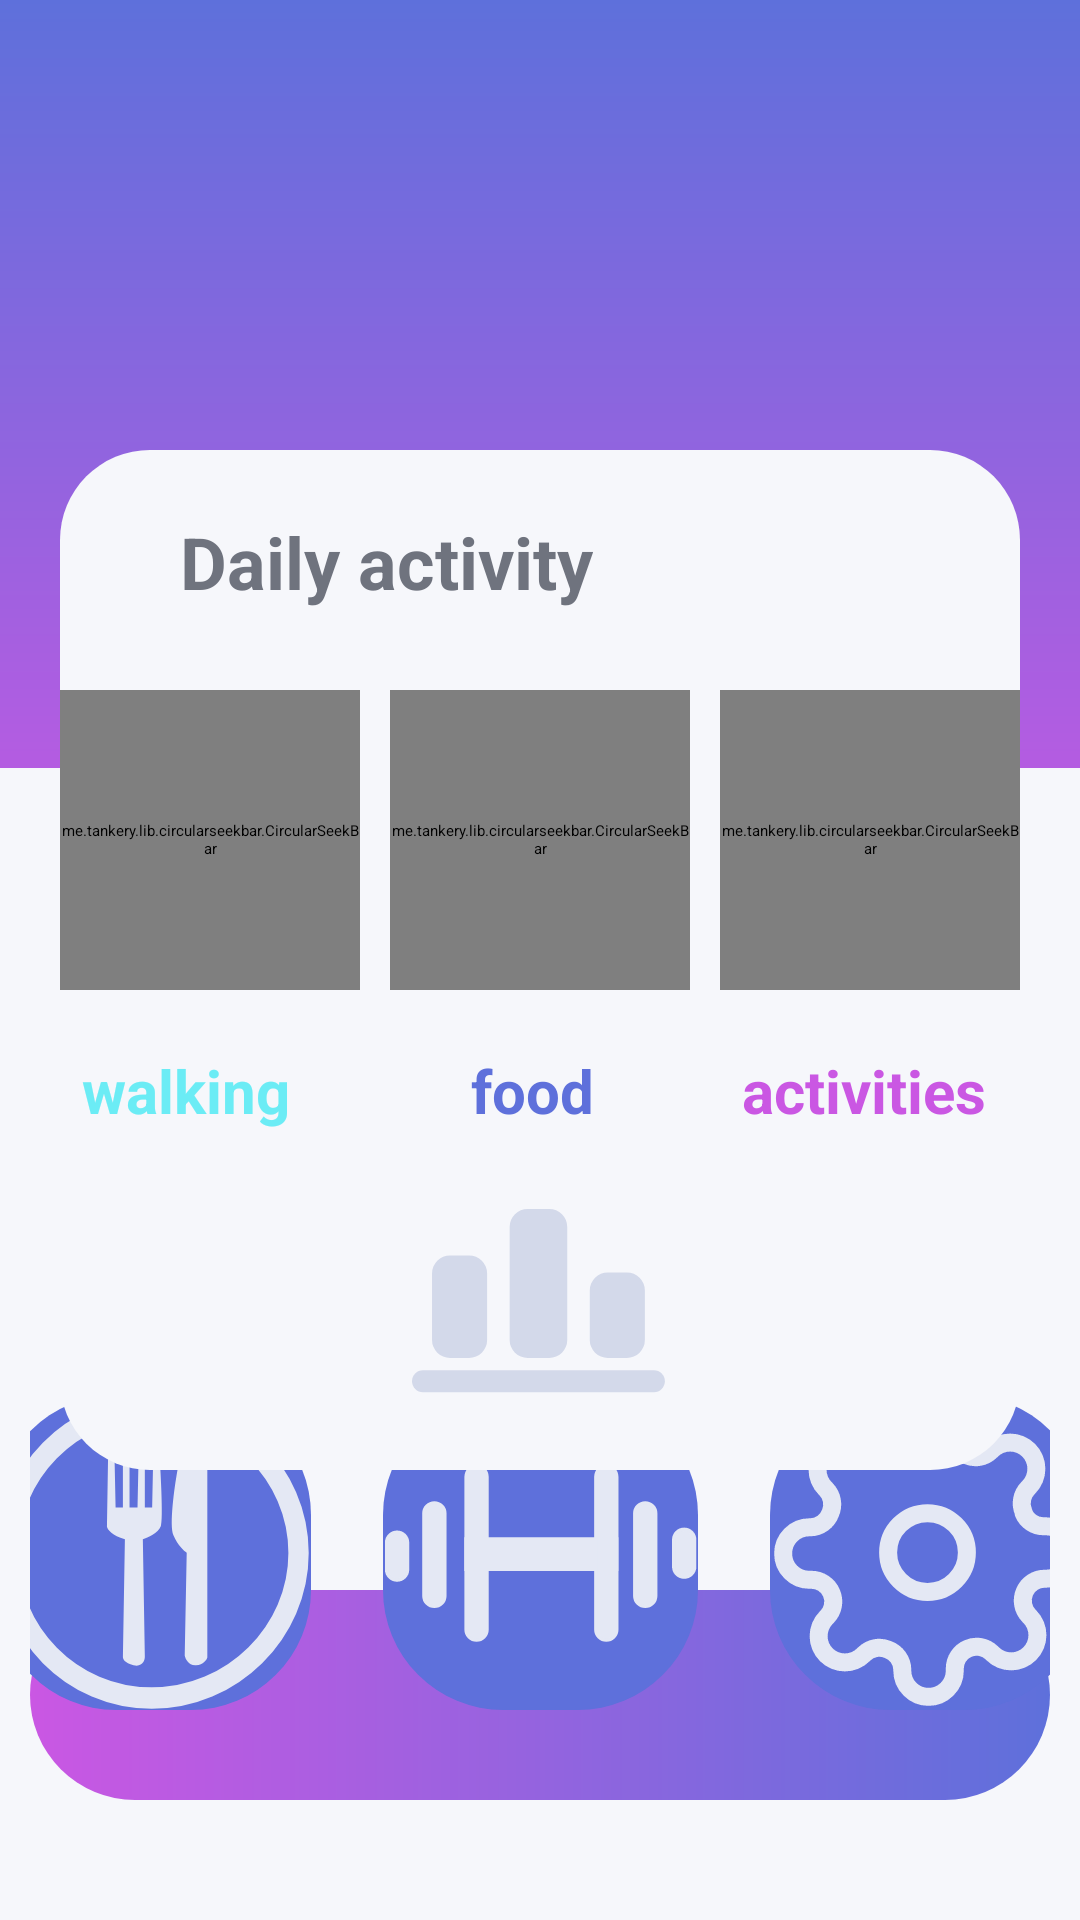

Icon click points for this 1080w x 1920h phone screenshot, format point (x, y):
Food: point (155, 1552)
progress: point (538, 1300)
Settings: point (925, 1552)
Training: point (540, 1552)
